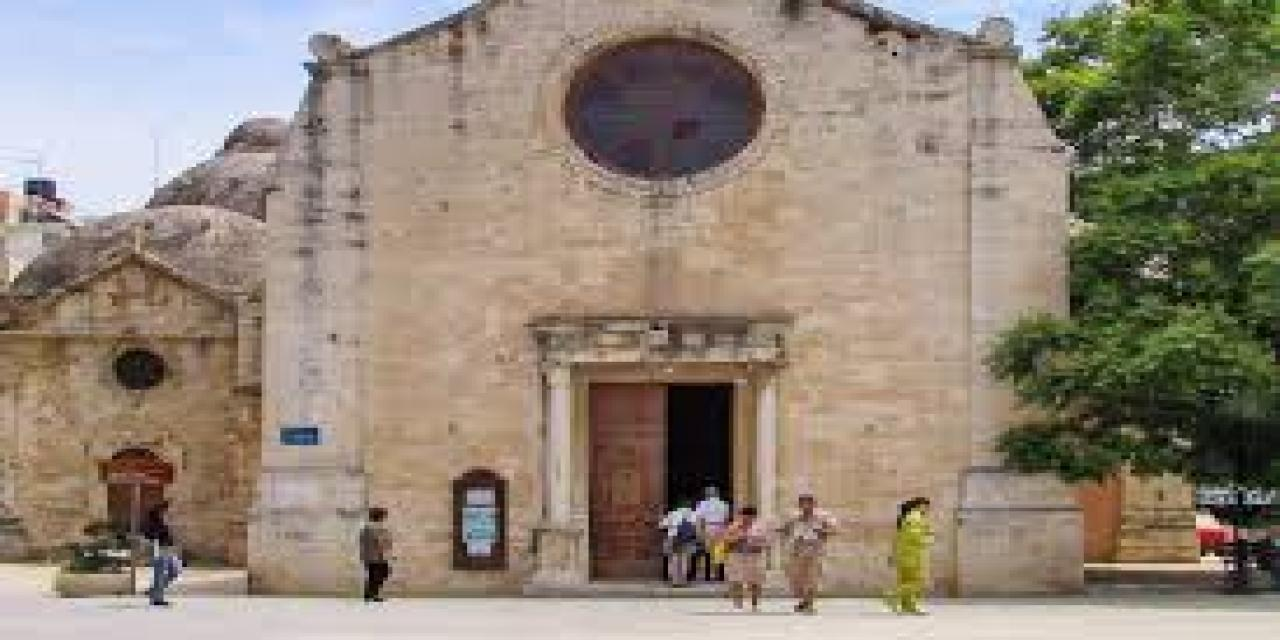Agia Aikaterini: (11, 10, 1146, 603)
